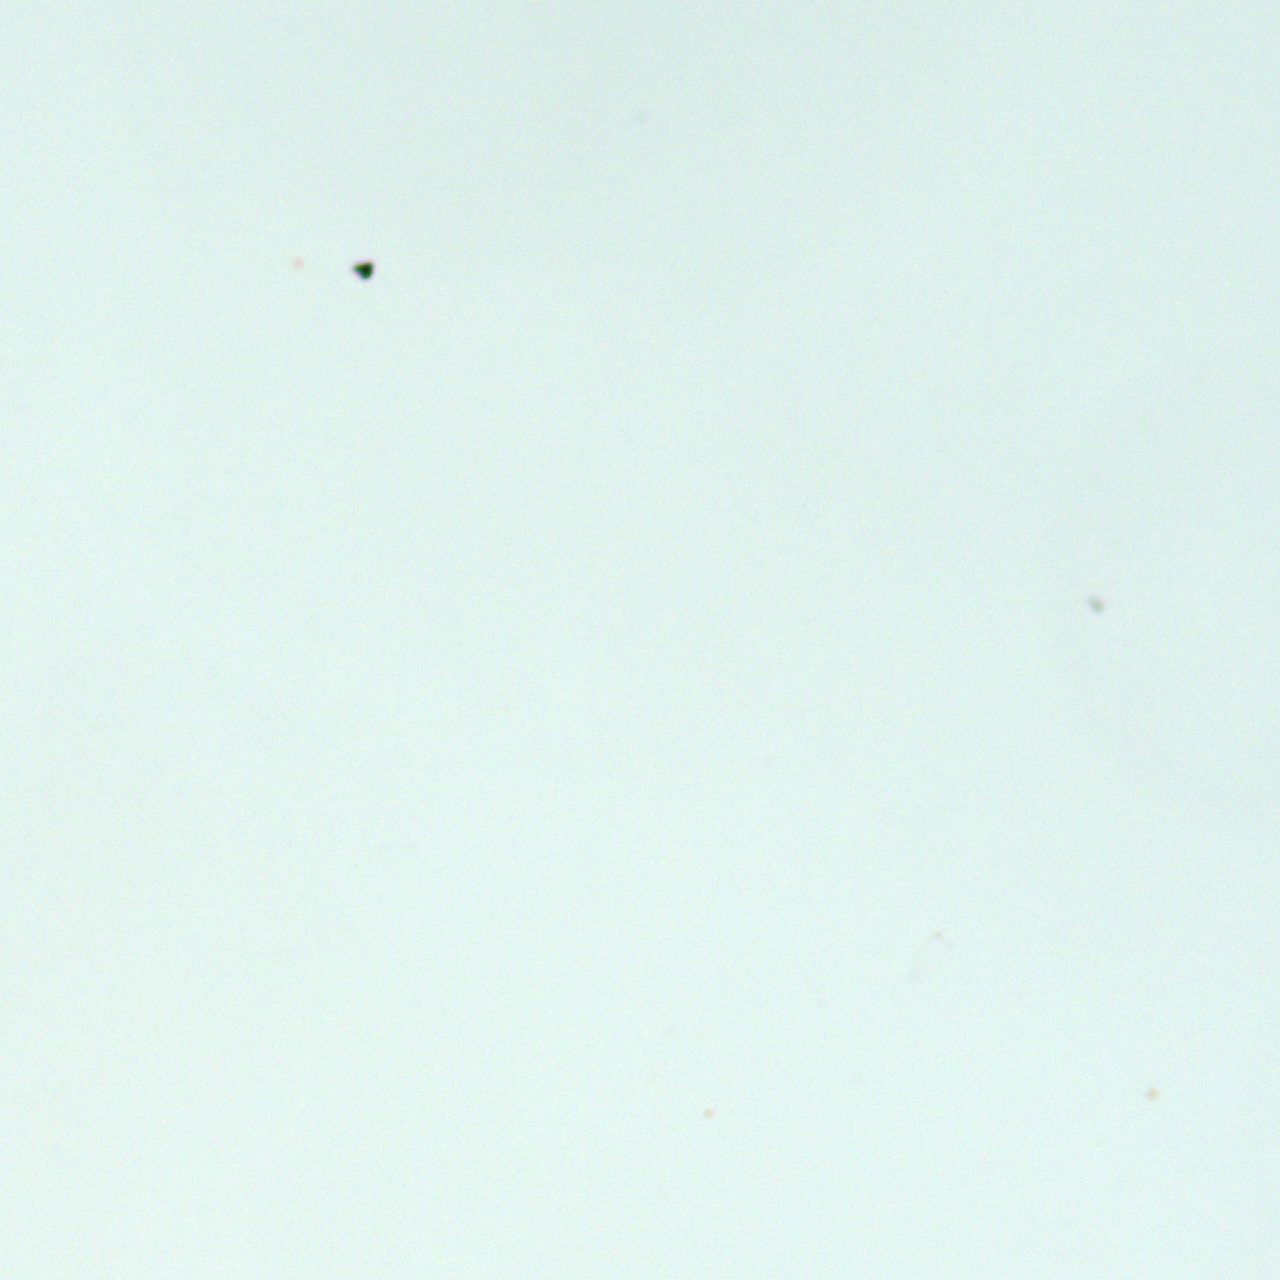dust: (352, 259, 379, 279)
